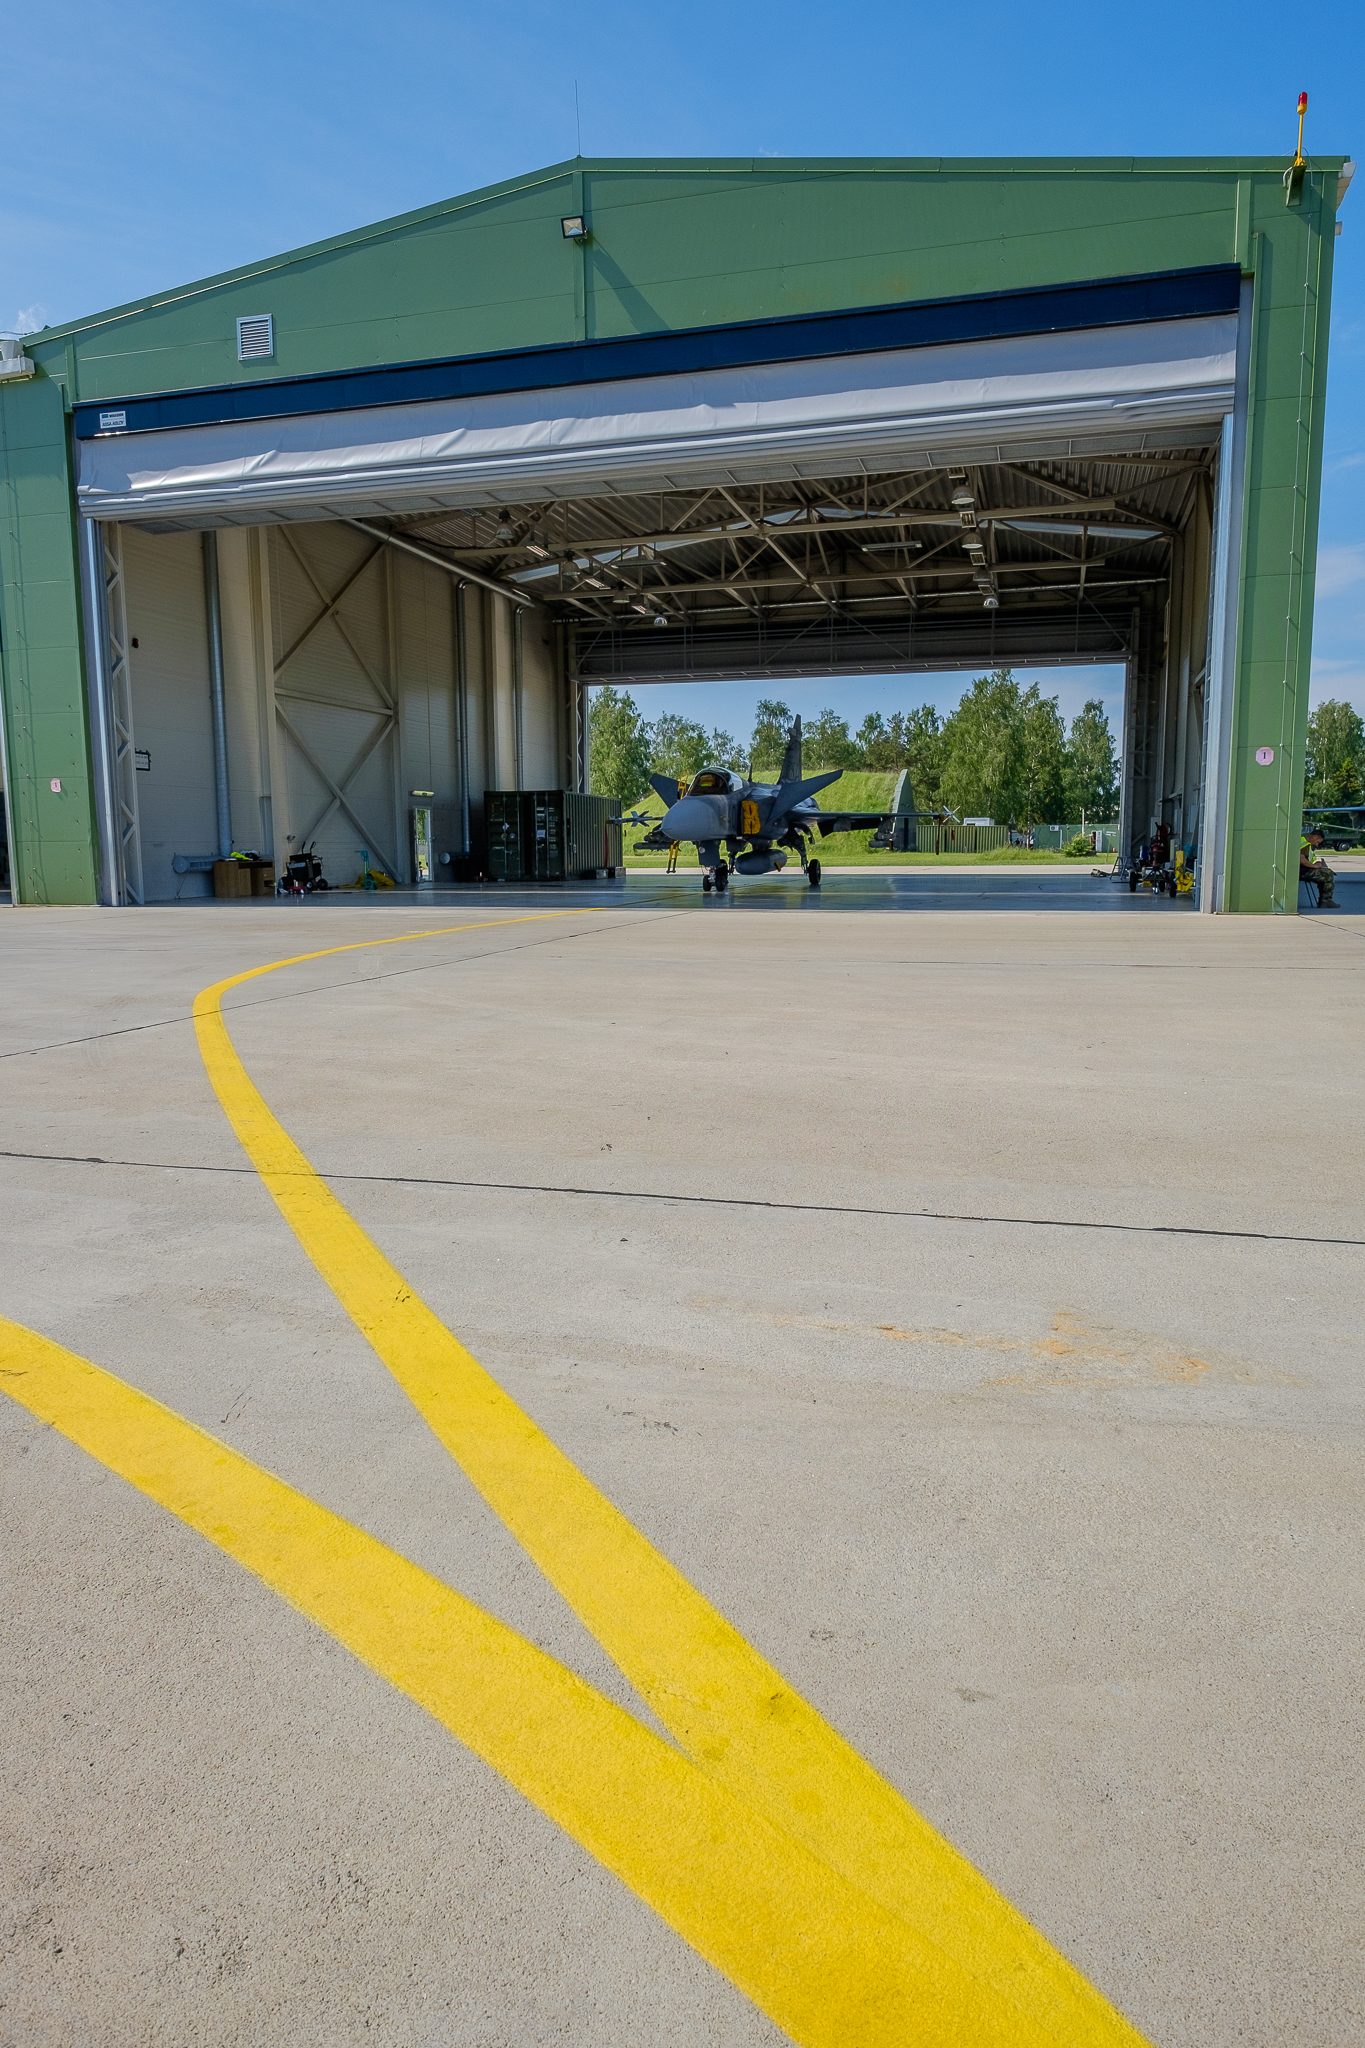JAS39: (603, 713, 961, 891)
